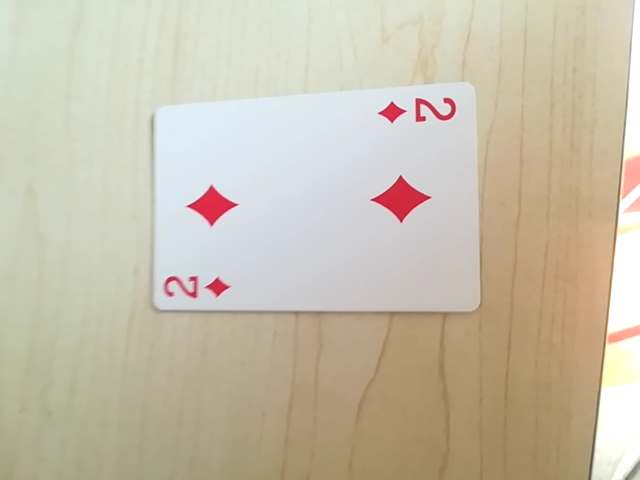fk 2: (376, 90, 462, 131), (159, 267, 235, 307), (623, 168, 640, 225), (610, 320, 639, 347)
